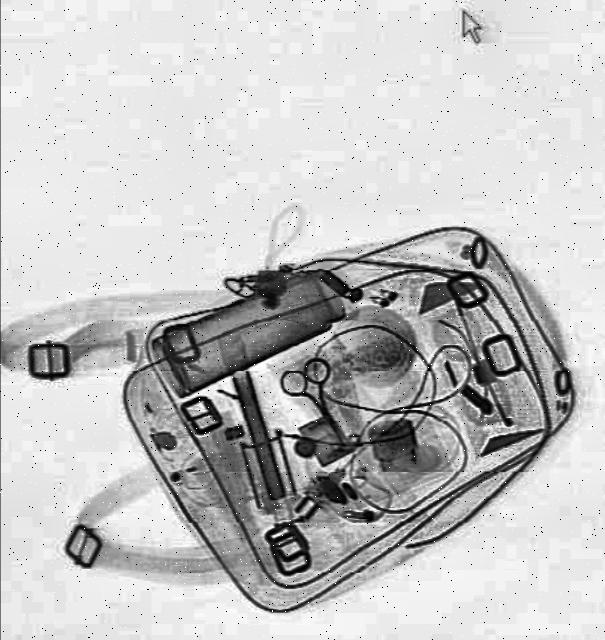Scissors: (272, 350, 364, 456)
